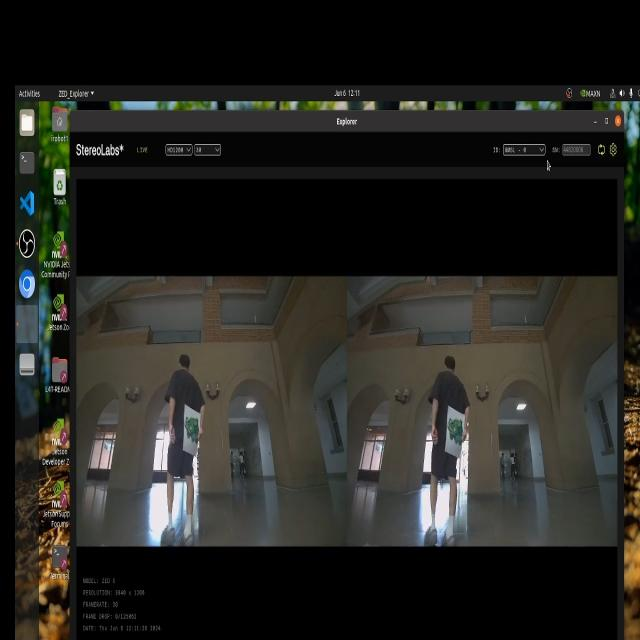green: (184, 408, 200, 446), (447, 415, 464, 447)
